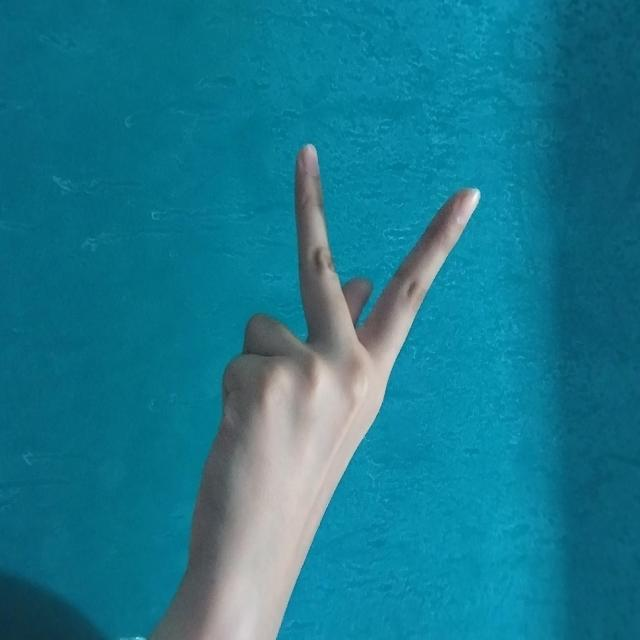K: (142, 155, 573, 448)
